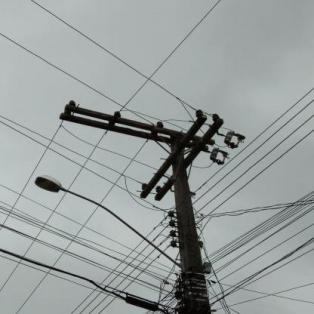Poste: (167, 127, 216, 314)
